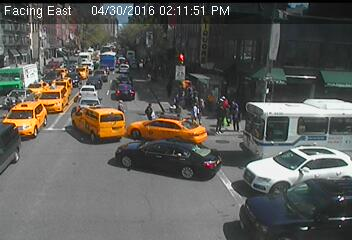neg: (259, 117, 277, 141), (174, 51, 190, 73), (195, 71, 209, 90), (270, 166, 284, 183), (304, 202, 317, 220), (129, 124, 141, 141), (259, 68, 270, 83), (95, 50, 106, 65), (50, 98, 60, 111), (19, 121, 29, 134), (161, 122, 171, 134), (223, 78, 233, 90), (132, 52, 141, 63), (63, 11, 71, 22), (64, 71, 72, 81)
pos: (226, 105, 247, 132), (210, 107, 230, 134), (223, 98, 241, 122), (141, 102, 156, 121), (188, 102, 202, 121), (113, 97, 127, 115), (163, 80, 176, 98), (2, 94, 15, 111), (216, 93, 228, 110), (11, 91, 22, 105)
